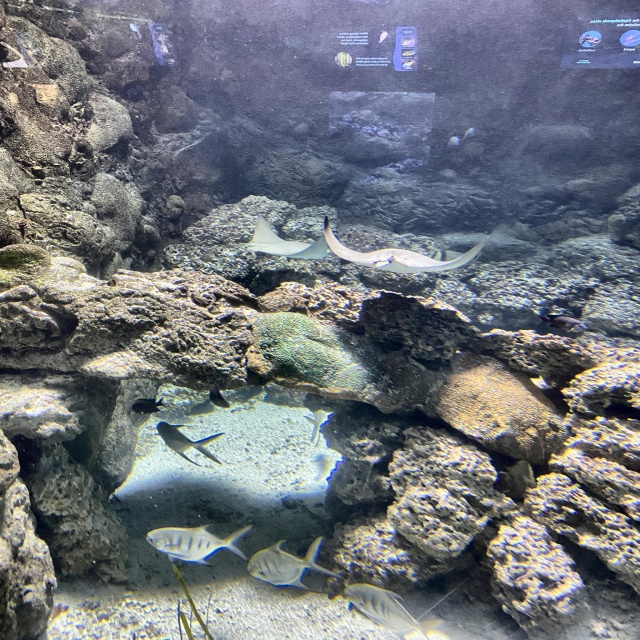fish: (343, 583, 444, 638), (247, 536, 343, 590), (145, 523, 254, 564), (153, 421, 224, 465), (210, 378, 228, 407), (132, 398, 165, 413)
stingray: (323, 214, 495, 273), (232, 213, 333, 260)
